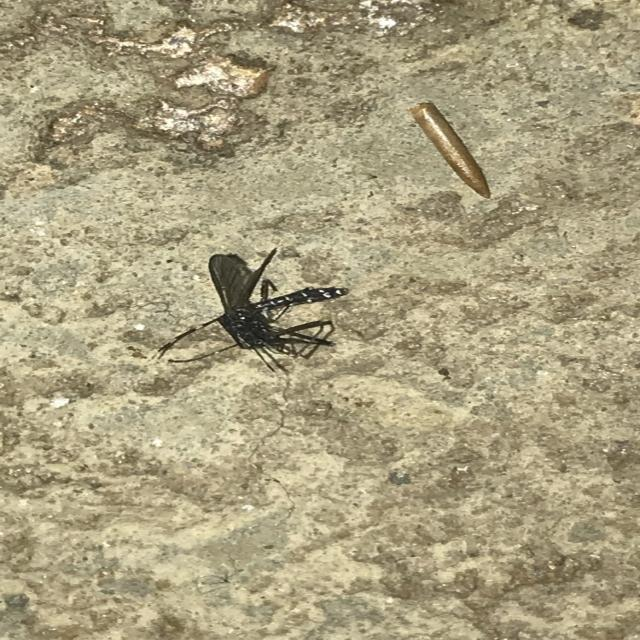albopictus: (138, 236, 358, 380)
